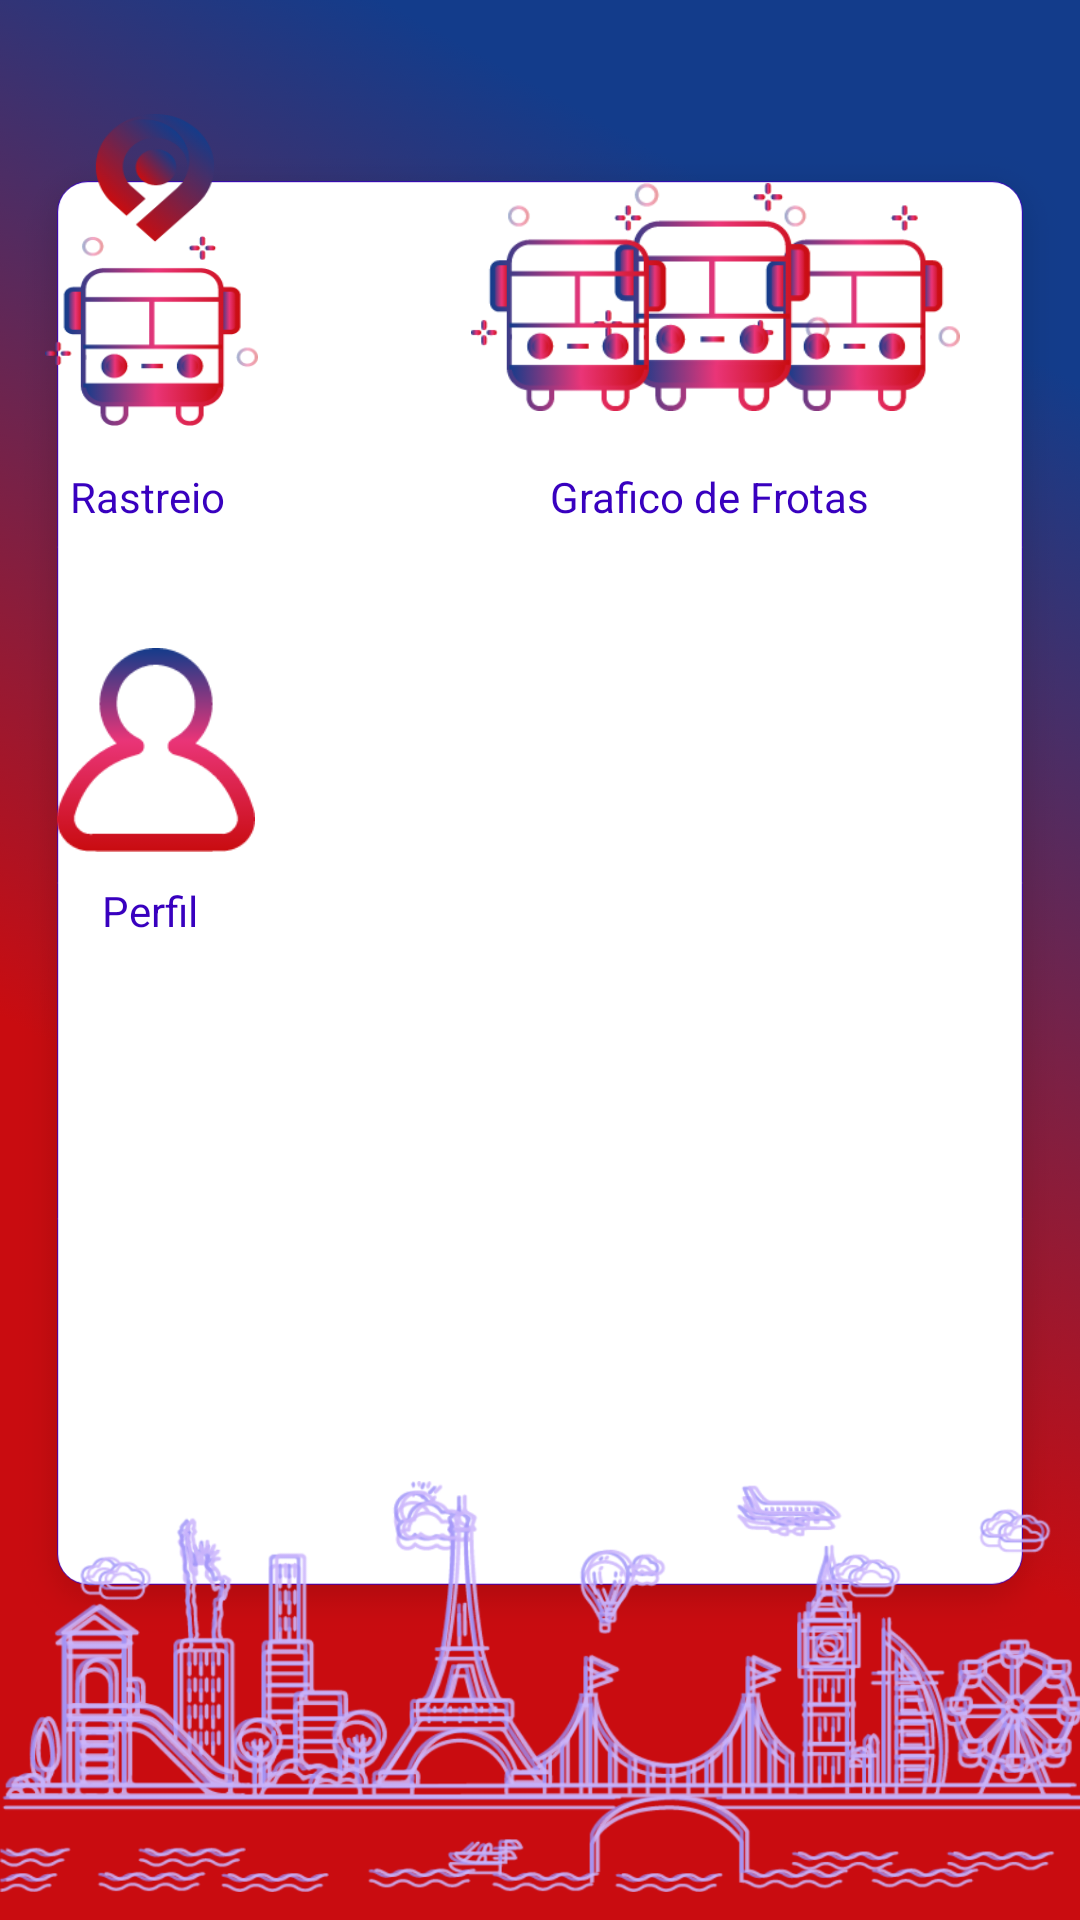

Named icons in this screenshot (1080 x 1920) and their centers, point (x, y):
bus: point (151, 270)
